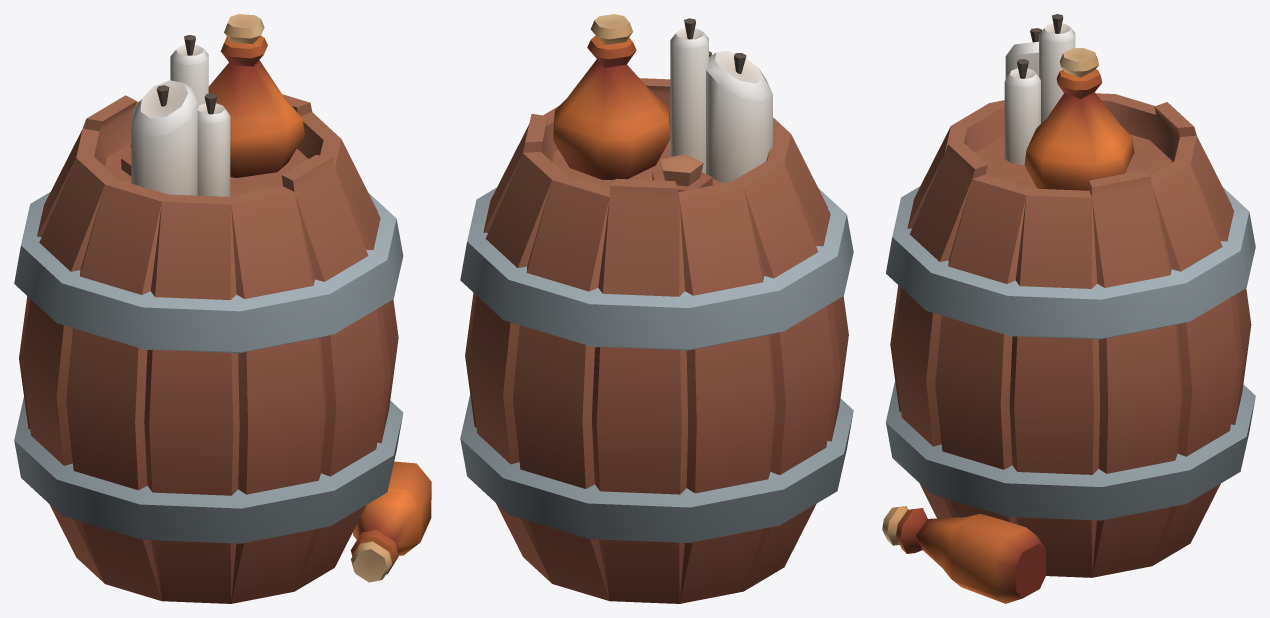
Rendered from barrel.glb.
3 renders of one model, left to right at view 1: azimuth 30°, elevation 25°; view 2: azimuth 150°, elevation 25°; view 3: azimuth 270°, elevation 25°, orthographic. The views are drawn at different scales.
Parts seen in each view (by area): view 1: barrel_large_decorated; view 2: barrel_large_decorated; view 3: barrel_large_decorated.
Part boxes in pixels (x1,y1,x2,y2): barrel_large_decorated: [14, 14, 431, 603]; barrel_large_decorated: [460, 14, 853, 603]; barrel_large_decorated: [882, 14, 1255, 603].
Bounding box in the file's own units: 0.5814 × 0.8181 × 0.5566.
1 material, 1 textured.
